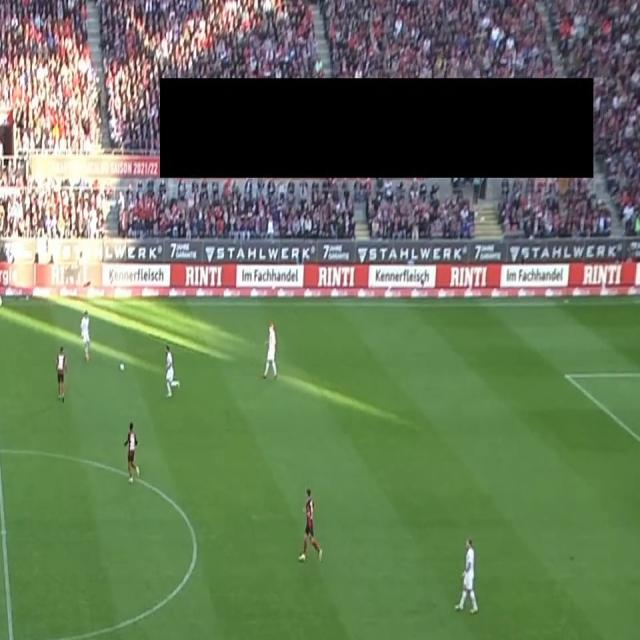ball: (118, 362, 125, 374)
